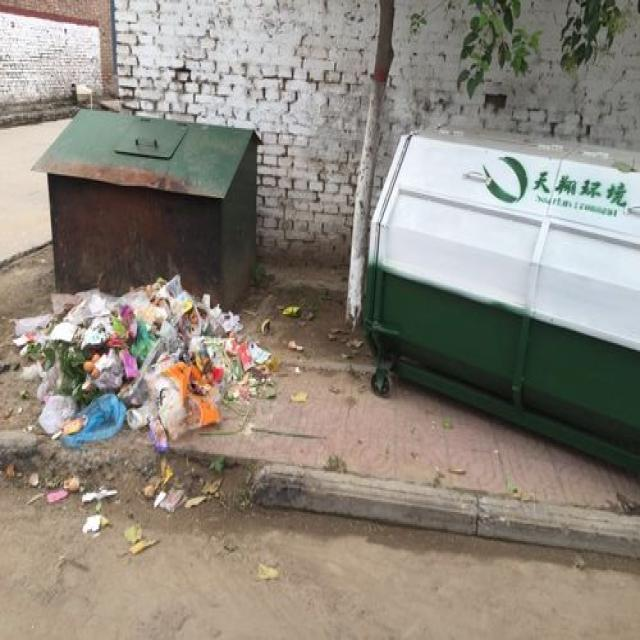garbage: (12, 273, 270, 534)
garbage_bin: (358, 126, 639, 478)
